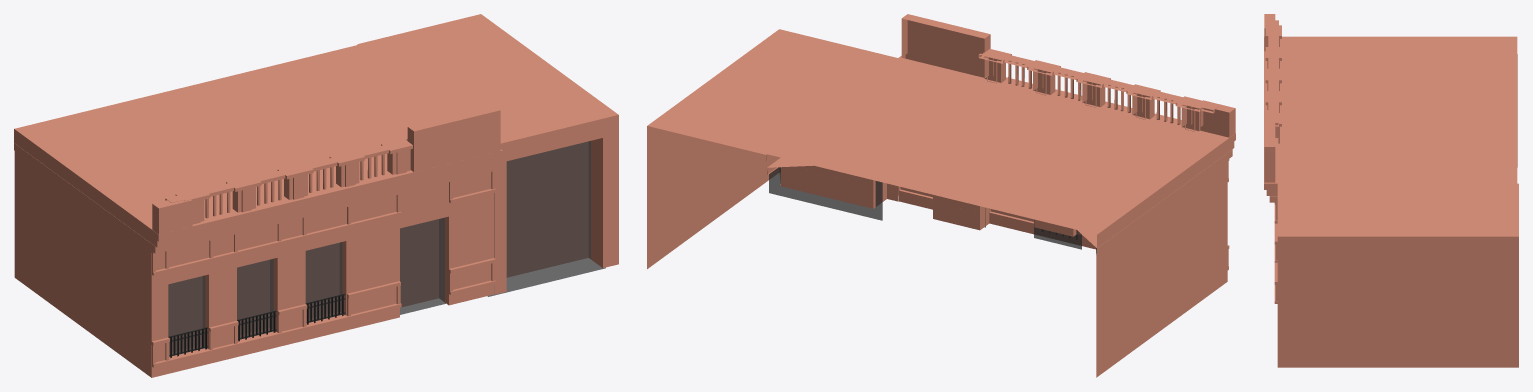
The model's file is edificio3.fbx.
3 renders of one model, left to right at view 1: azimuth 30°, elevation 25°; view 2: azimuth 150°, elevation 25°; view 3: azimuth 270°, elevation 25°, orthographic. The views are drawn at different scales.
Visible parts, largest first — view 1: Base, Garage, Entrada-Garage, Ventanas y Puertas, Decoracion Ventanas.002, Decoracion Ventanas.003, Decoracion Ventanas.001; view 2: Base, Garage, Entrada-Garage, Ventanas y Puertas; view 3: Garage, Base.
Boxes of the visible parts, x1,y1,x2,y2 form: Base: (14,45,502,377); Garage: (357,14,618,294); Entrada-Garage: (487,141,605,296); Ventanas y Puertas: (168,217,445,354); Decoracion Ventanas.002: (237,310,276,341); Decoracion Ventanas.003: (168,327,207,357); Decoracion Ventanas.001: (305,293,345,324); Base: (766,14,1235,377); Garage: (647,29,898,268); Entrada-Garage: (769,167,882,220); Ventanas y Puertas: (984,208,1096,252); Garage: (1277,183,1518,367); Base: (1264,14,1517,303).
Bounding box in the file's own units: 2629 × 1089 × 1416.
